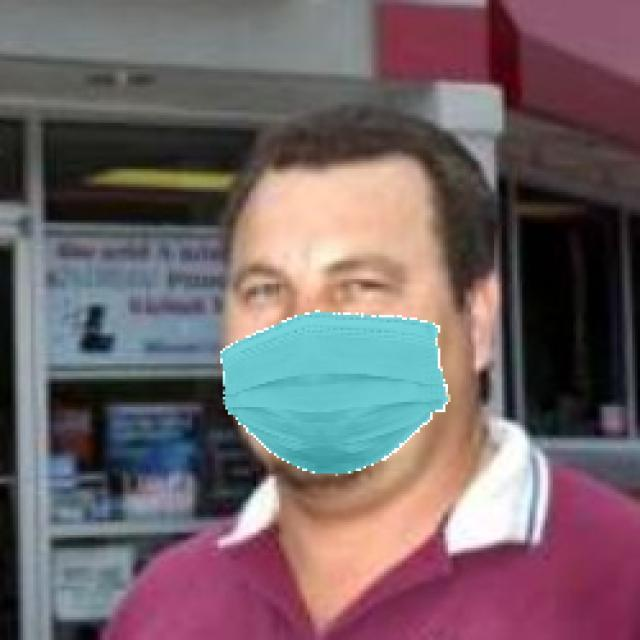surgical: (218, 198, 442, 472)
